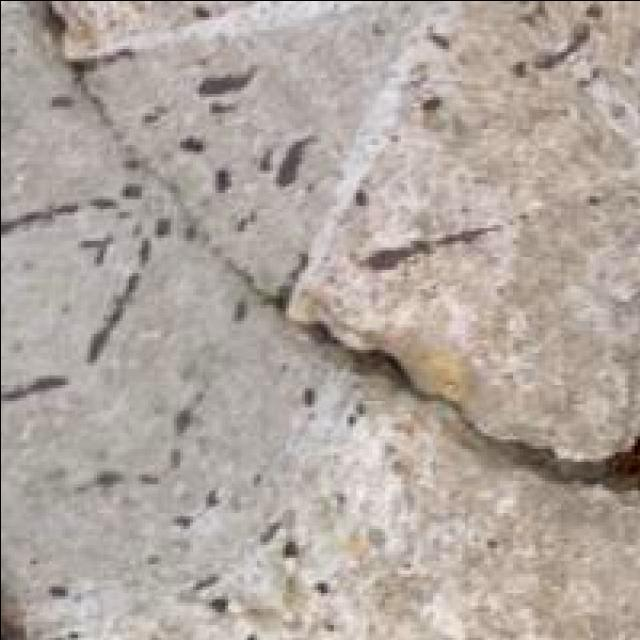SurfaceCrack: (208, 268, 640, 520)
